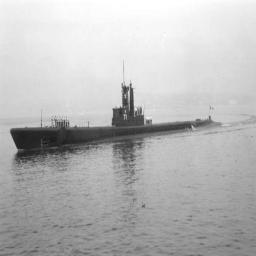submarine: (10, 88, 223, 154)
